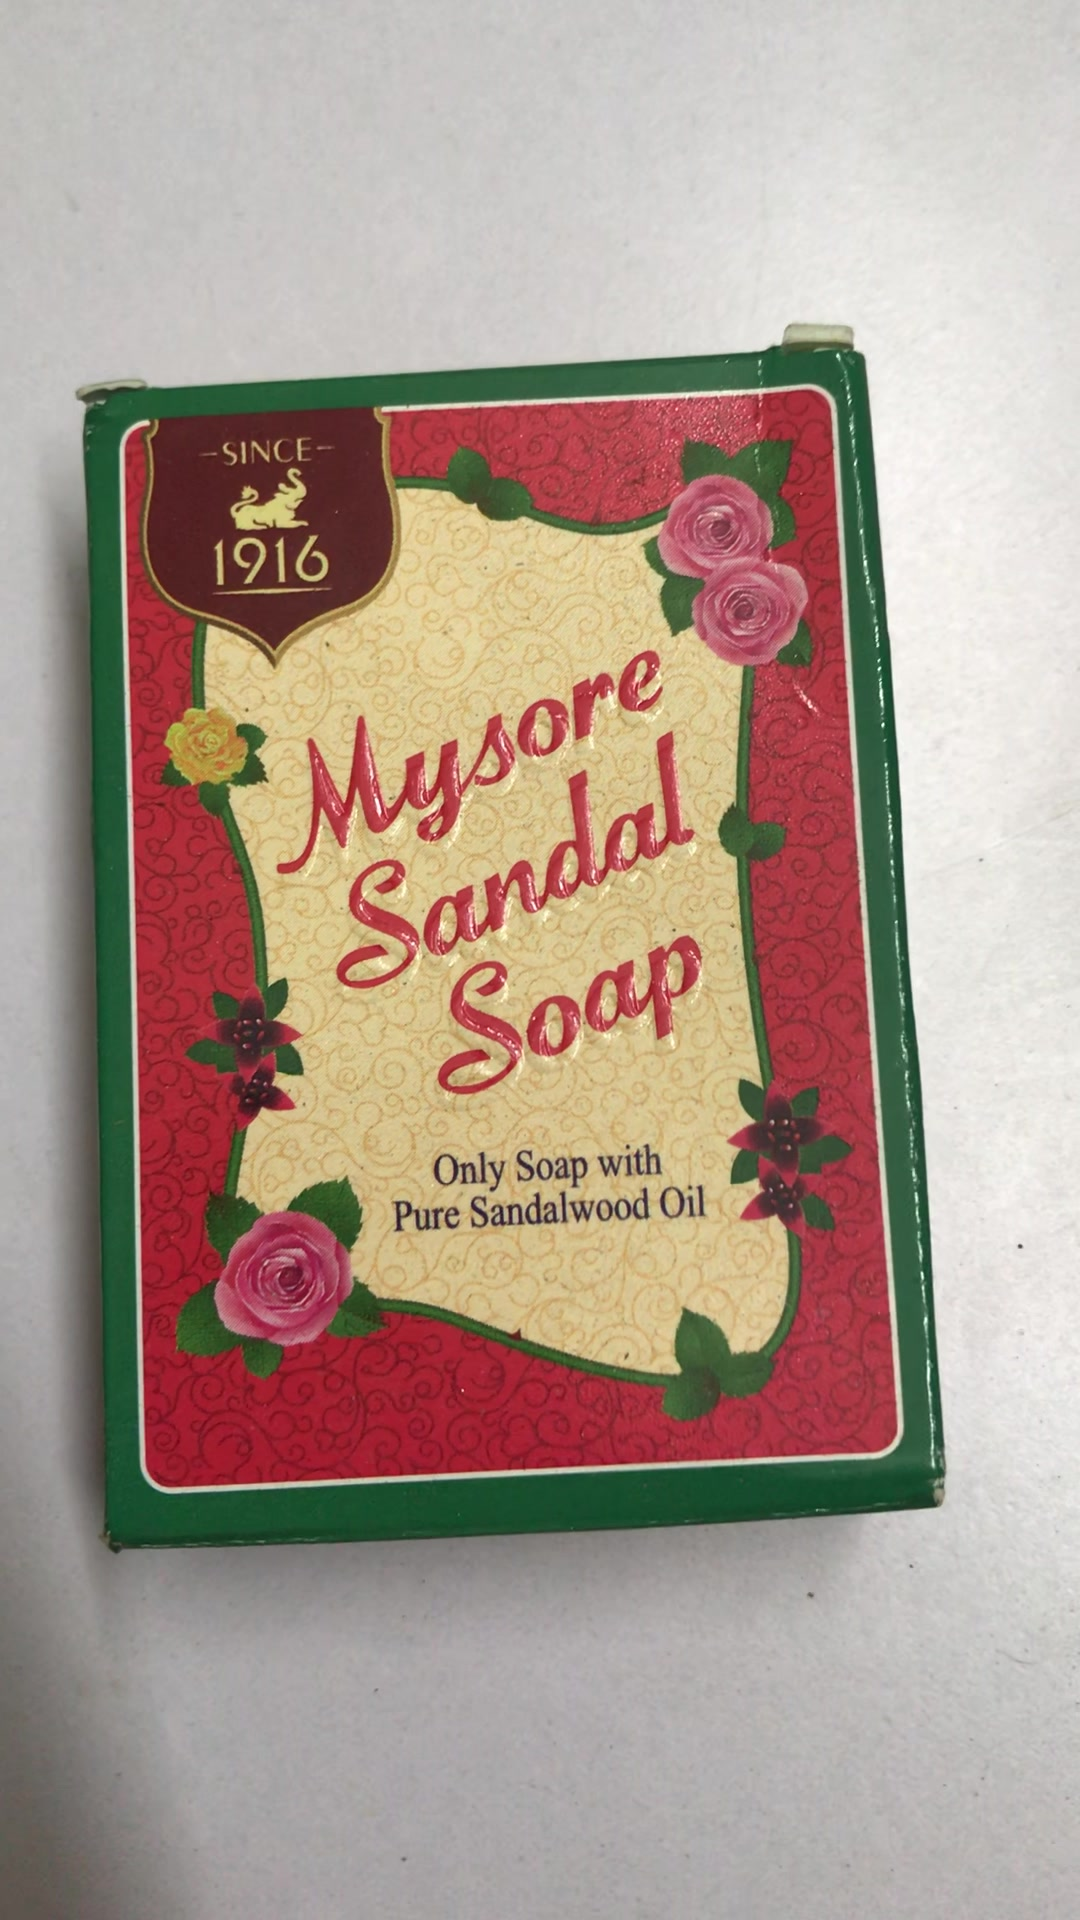mysore sandal soap: (94, 361, 934, 1545)
